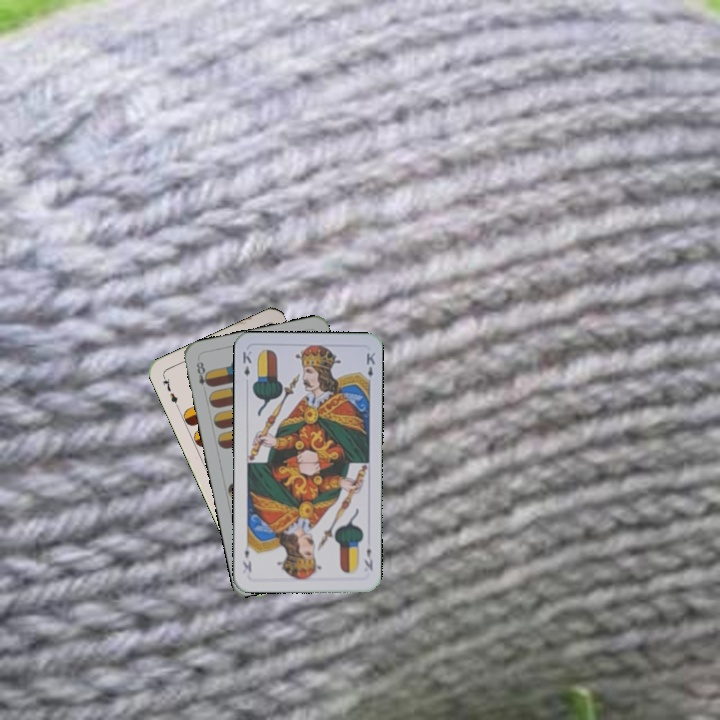E7: (158, 372, 181, 410)
E8: (192, 355, 213, 389)
EK: (239, 347, 254, 378), (360, 544, 375, 573)
